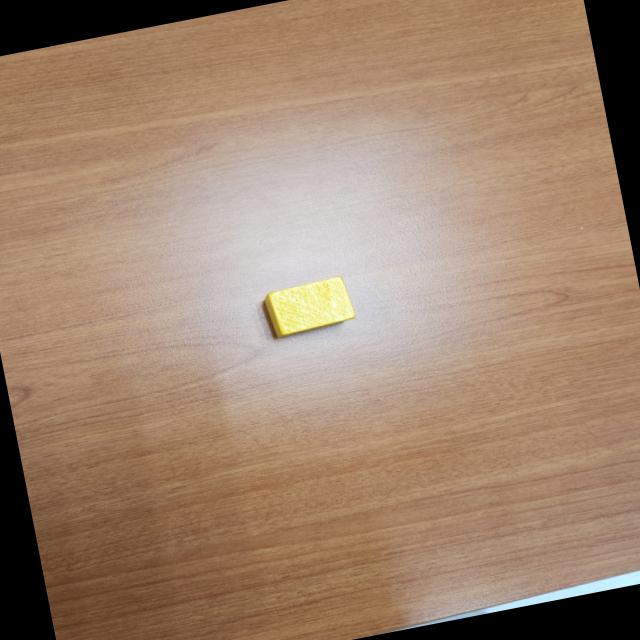yellow: (259, 275, 358, 341)
